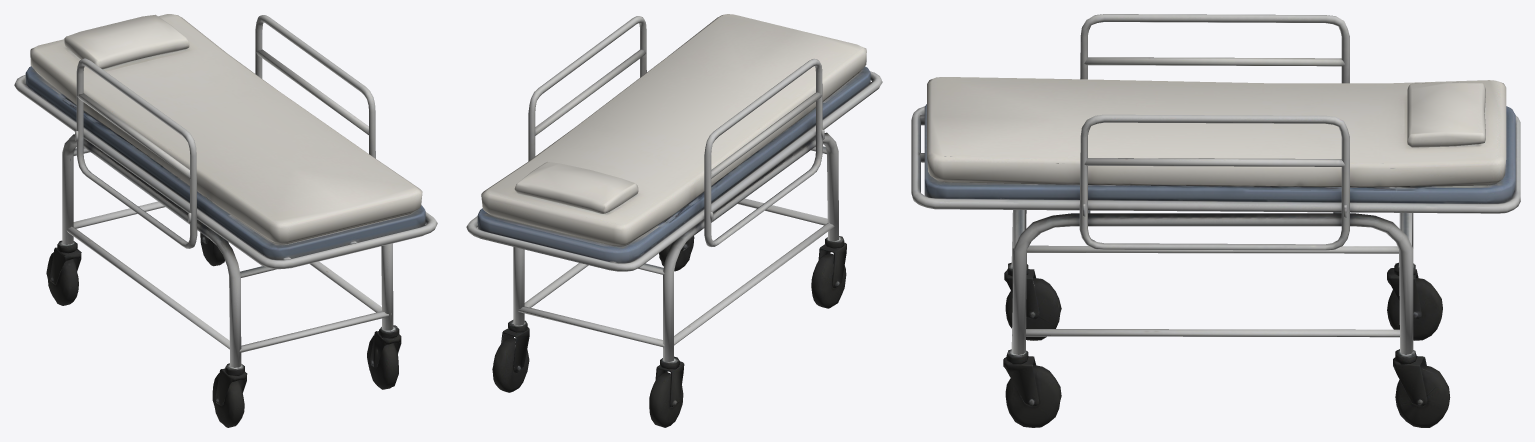
Rendered from upa_maca.glb.
3 views of the same model, side by side, from view 1: azimuth 30°, elevation 25°; view 2: azimuth 150°, elevation 25°; view 3: azimuth 270°, elevation 25° (orthographic). The views are drawn at different scales.
Parts seen in each view (by area): view 1: upa_maca – Transport Stretcher; view 2: upa_maca – Transport Stretcher; view 3: upa_maca – Transport Stretcher.
Boxes of the visible parts, <box> form: upa_maca – Transport Stretcher: <box>14,14,437,427</box>; upa_maca – Transport Stretcher: <box>466,14,882,427</box>; upa_maca – Transport Stretcher: <box>911,14,1520,427</box>.
Size of the model in its own units: 0.8258 by 1.15 by 2.
1 material, 1 textured.
